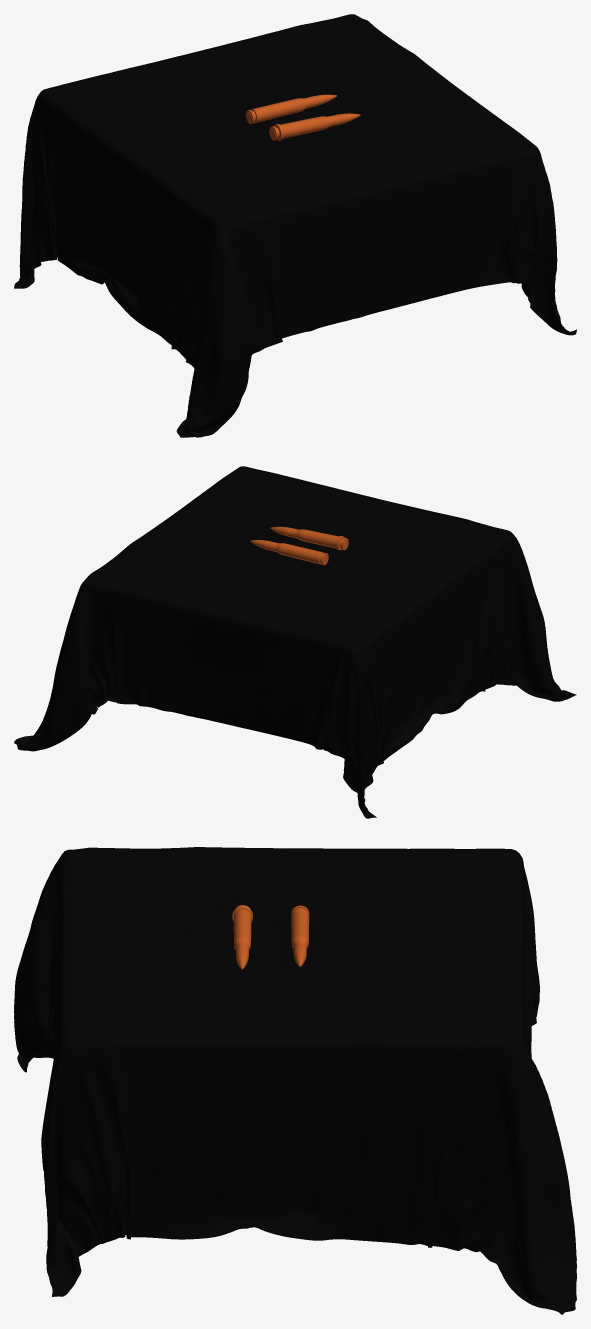
The model's file is uploads_files_2676249_BULLET.fbx.
3 views of the same model, one above another, from view 1: azimuth 30°, elevation 25°; view 2: azimuth 150°, elevation 25°; view 3: azimuth 270°, elevation 25° (orthographic). The views are drawn at different scales.
Parts seen in each view (by area): view 1: Textil, Bullet1, Bullet; view 2: Textil, Bullet1, Bullet; view 3: Textil, Bullet1, Bullet.
Boxes of the visible parts, x1,y1,x2,y2 form: Textil: (14,14,576,437); Bullet1: (269,113,360,140); Bullet: (246,94,336,123); Textil: (14,466,576,818); Bullet1: (270,526,348,550); Bullet: (250,540,328,565); Textil: (14,847,576,1314); Bullet1: (232,905,252,969); Bullet: (291,905,309,966).
Size of the model in its own units: 118 by 53.42 by 106.
